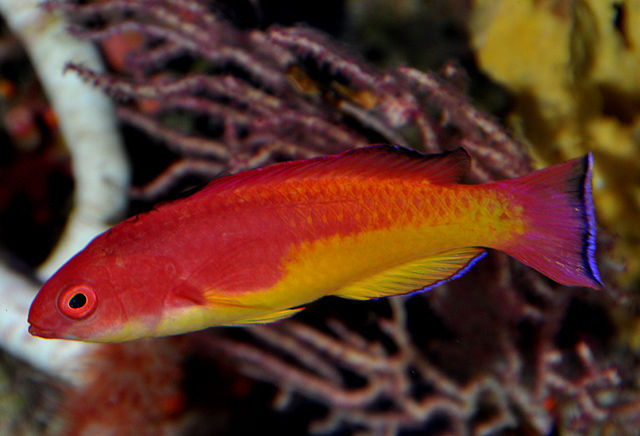fish: (28, 143, 605, 343)
